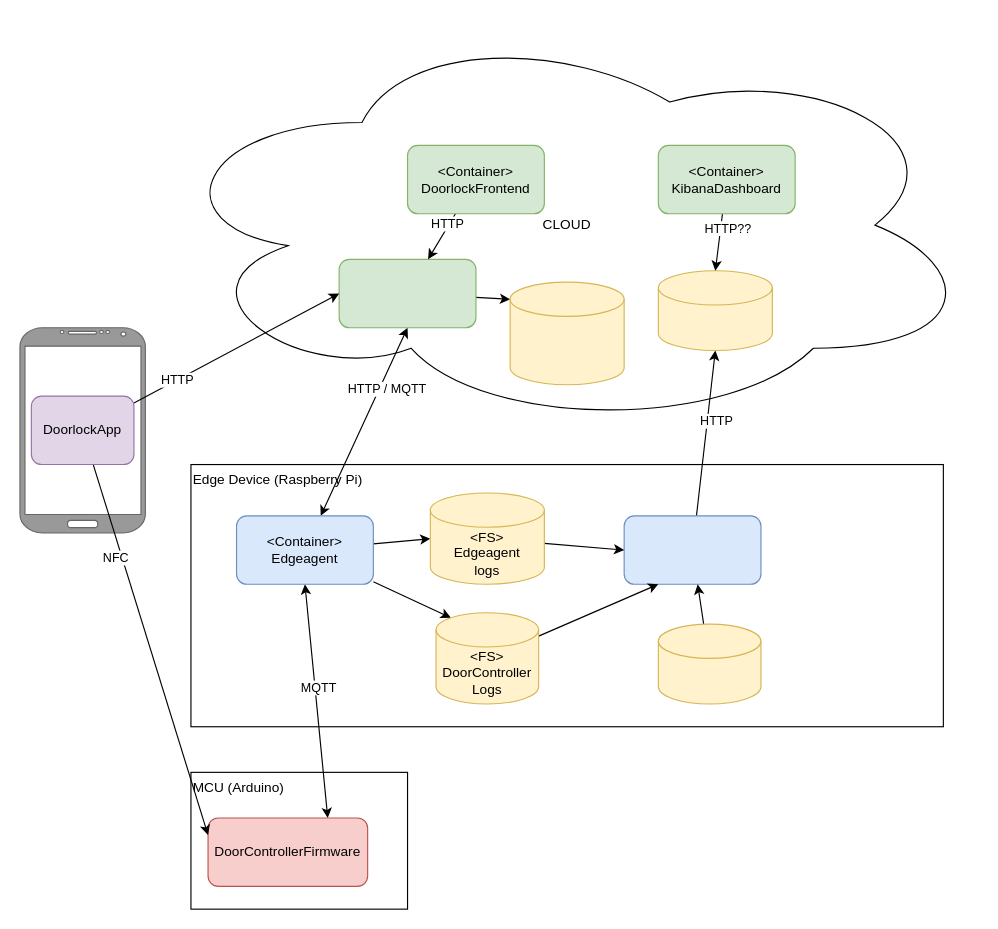
Image size: 998x929. Some labels were removed from this diagram. Here are the shapes that lost their labels. From the top down, the centre of each, then its label:
the point at 407,293: <Container> DoorlockCloudApi
the point at 714,310: <Container> Elasticsearch
the point at 566,333: <Container> Doorlock Database
the point at 692,549: <Container> Filebeat
the point at 709,663: <FS> Linux Syslog
